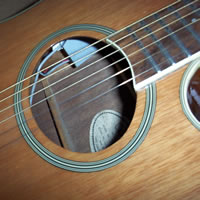guitar: (1, 1, 200, 200)
